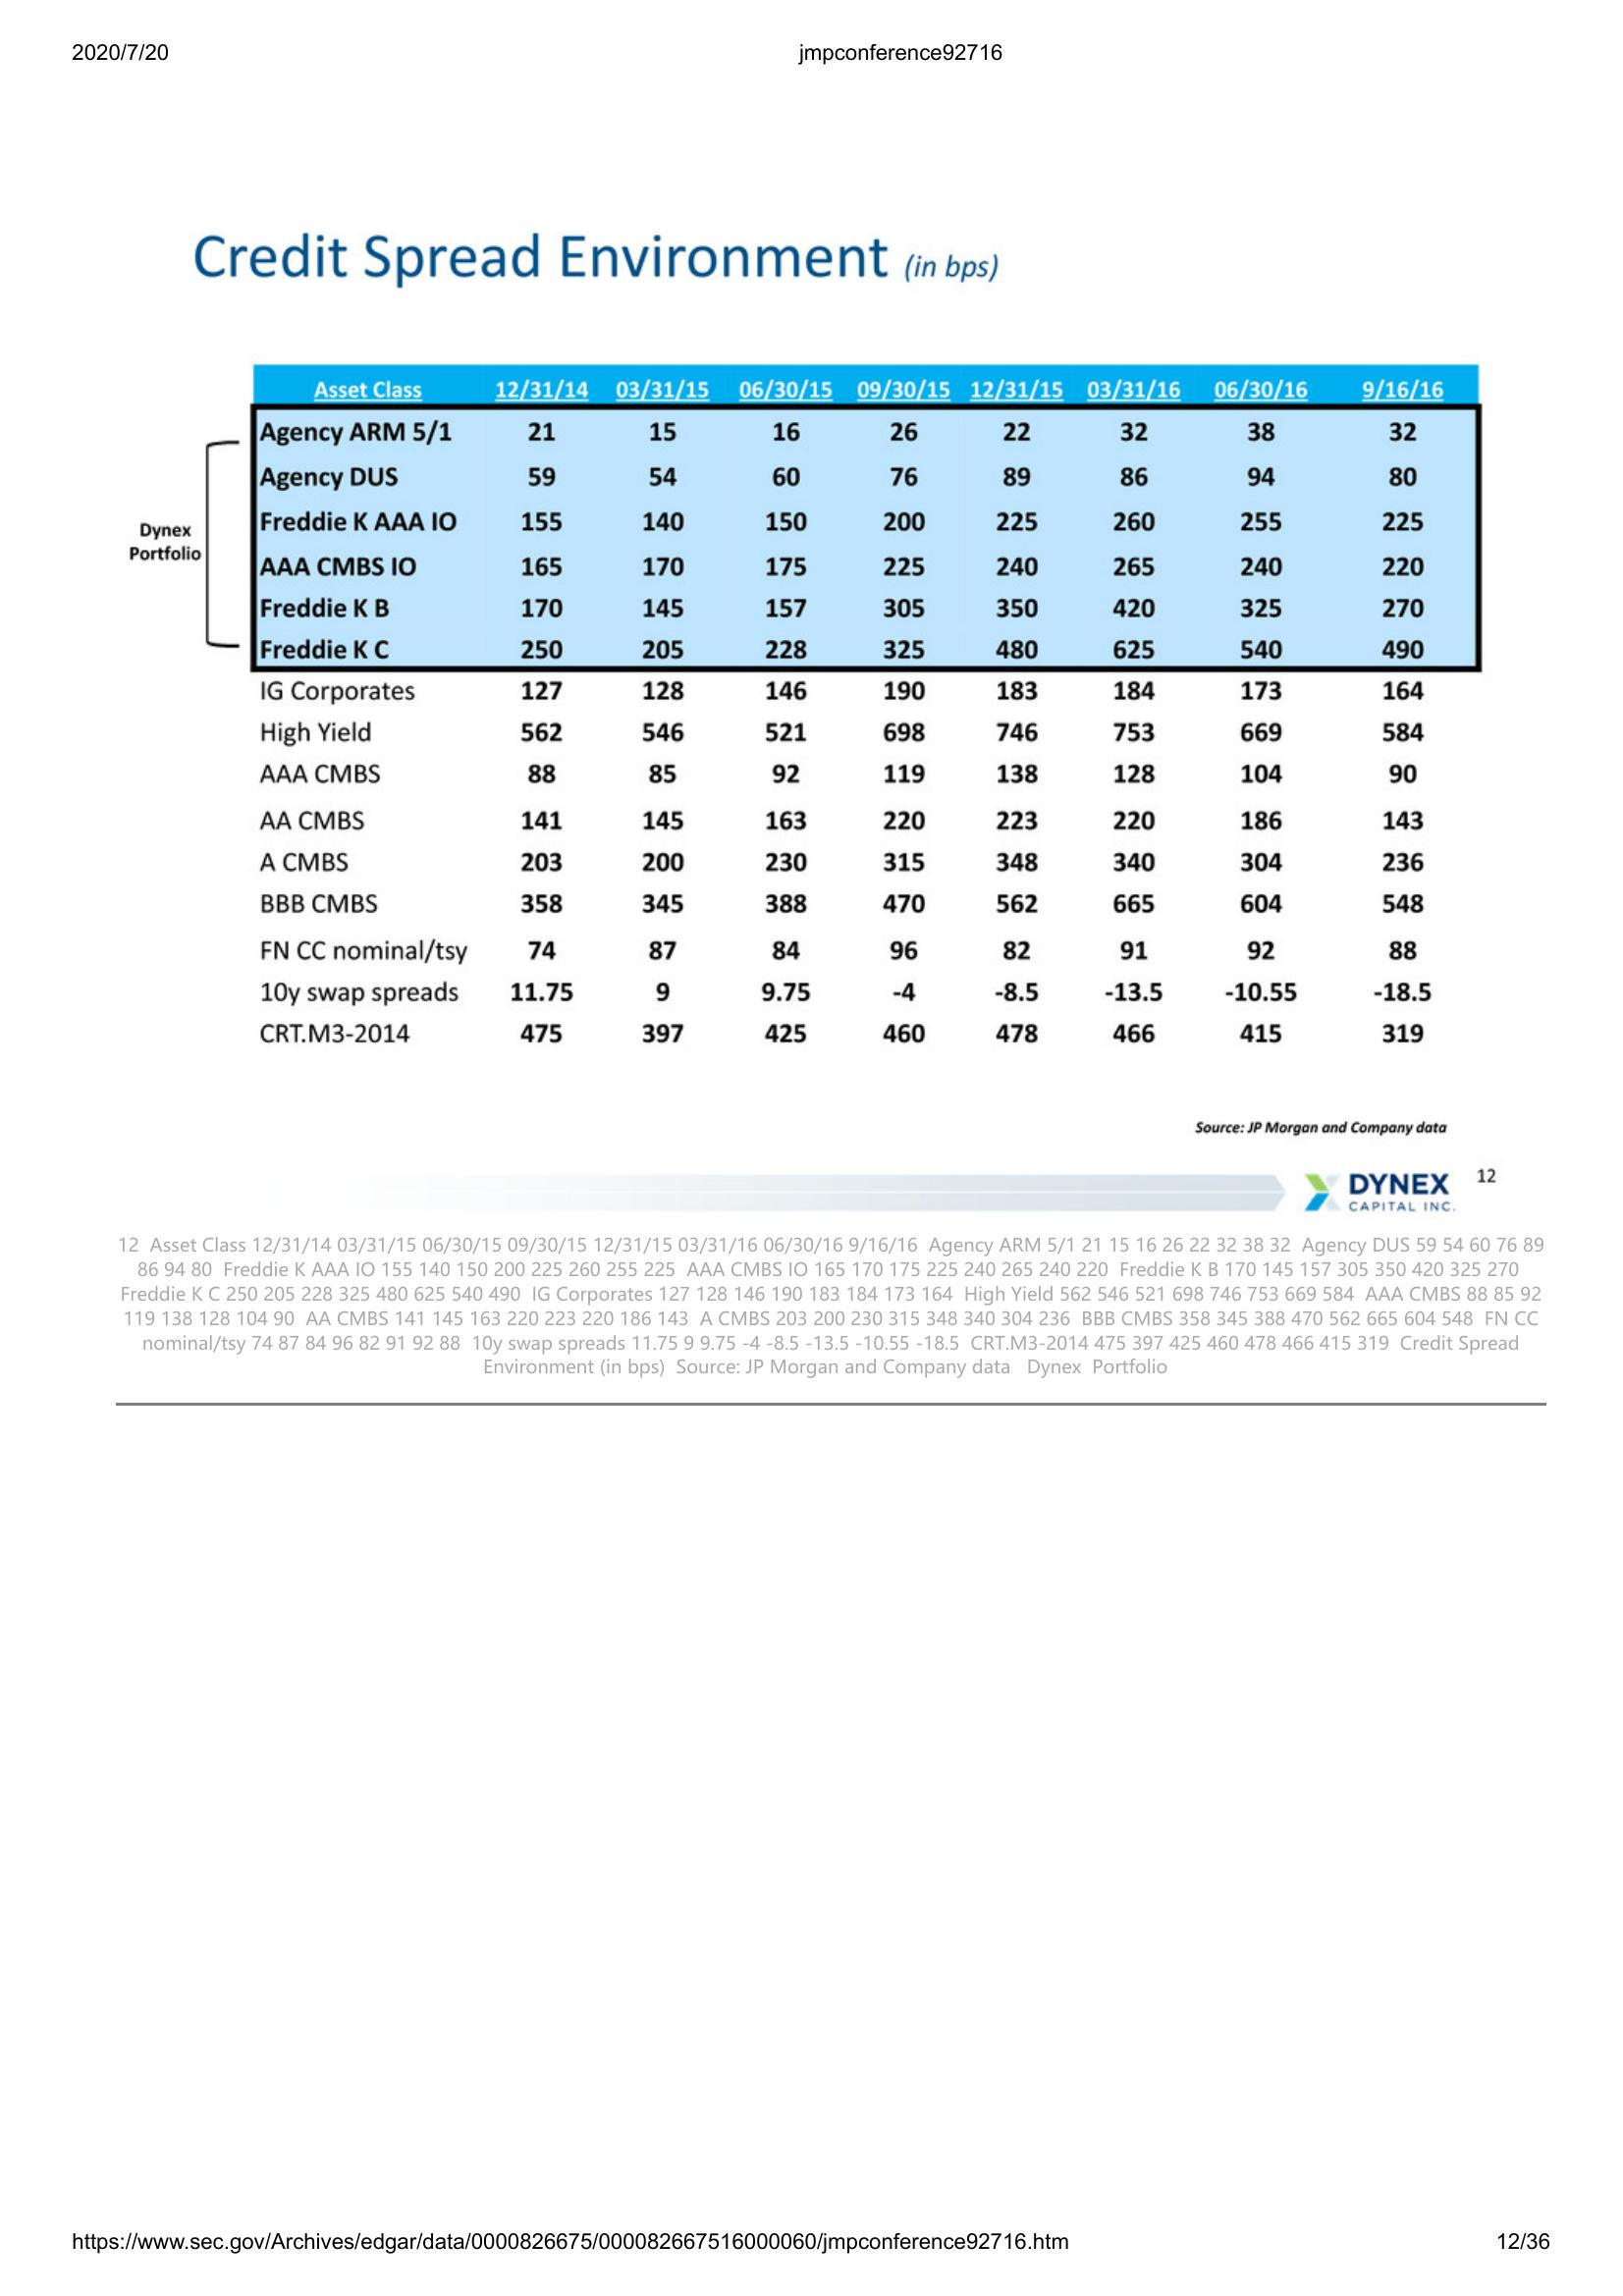table: (244, 358, 1488, 1058)
